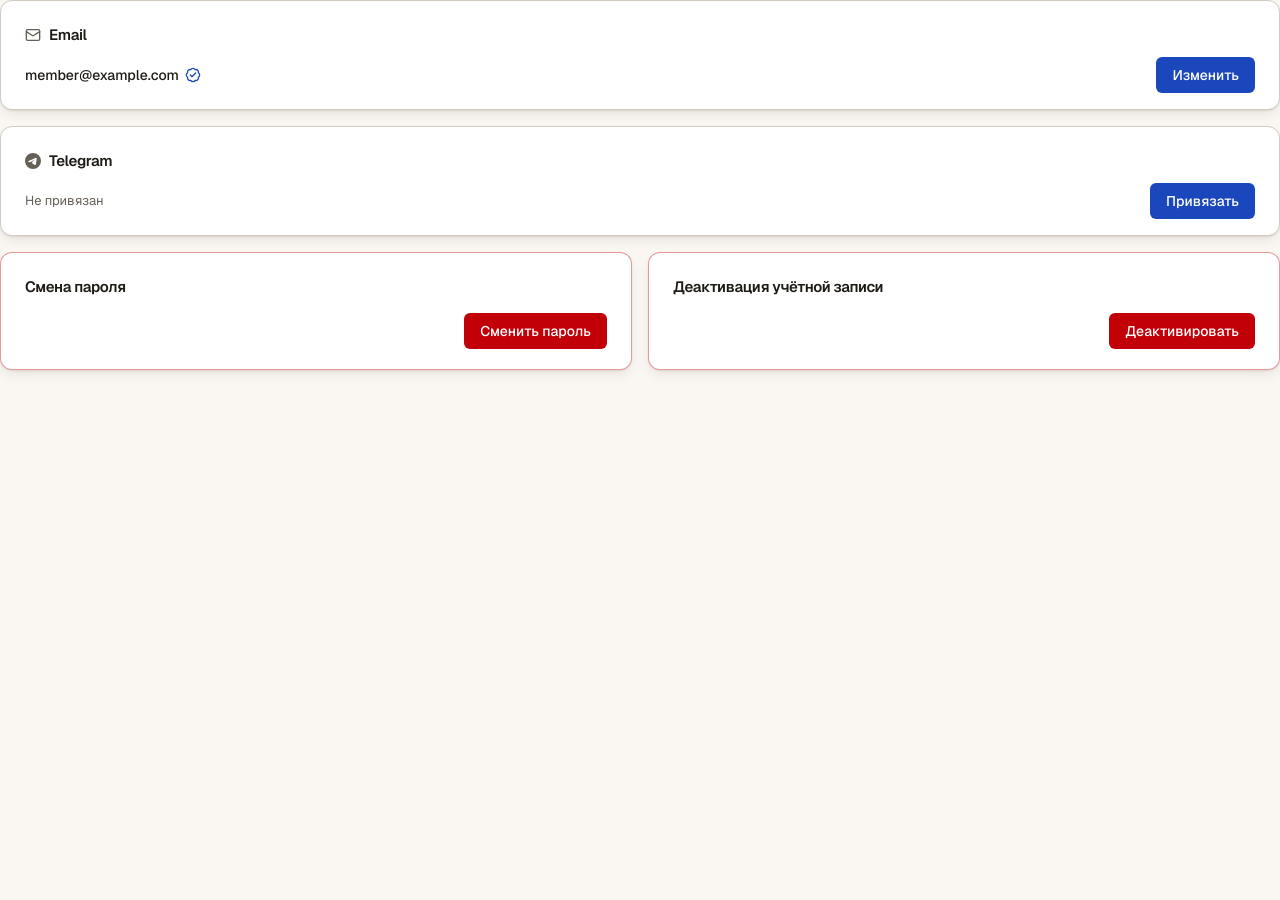
Test case: the account danger zone pairs password change with deactivation › opens the form in a dialog instead of unfolding the card
Expected: the field labelled "Текущий пароль" is not shown
Click the button "Сменить пароль" at (536, 331), box [464, 313, 607, 349]
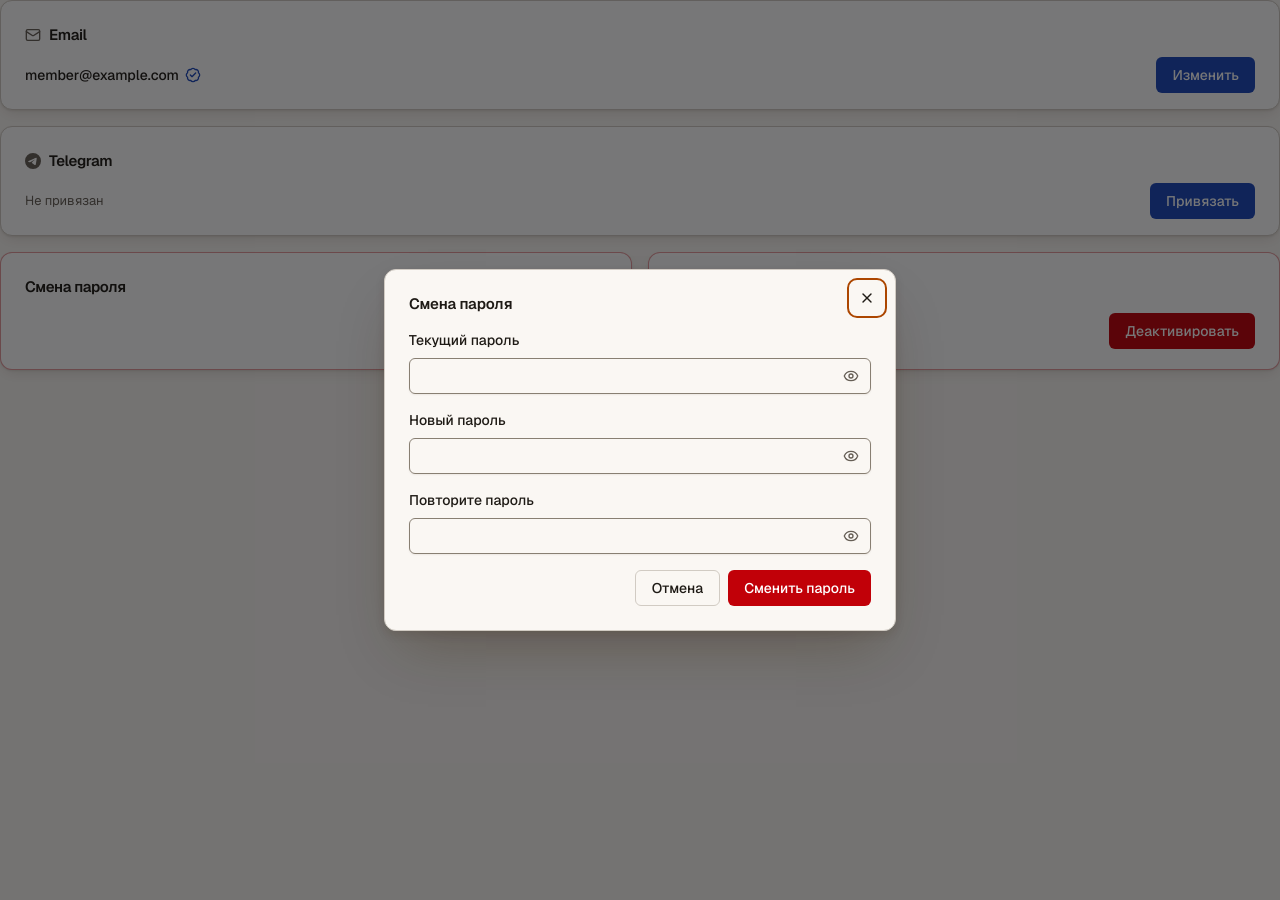
Now the password field labelled "Текущий пароль" is shown, box [409, 358, 871, 394]
